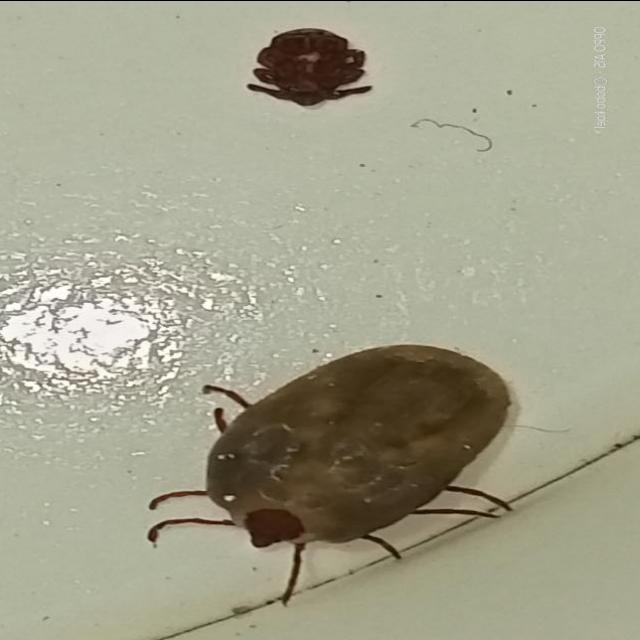Rhipicephalus Sanguineus-F-Fed: (146, 343, 516, 606)
